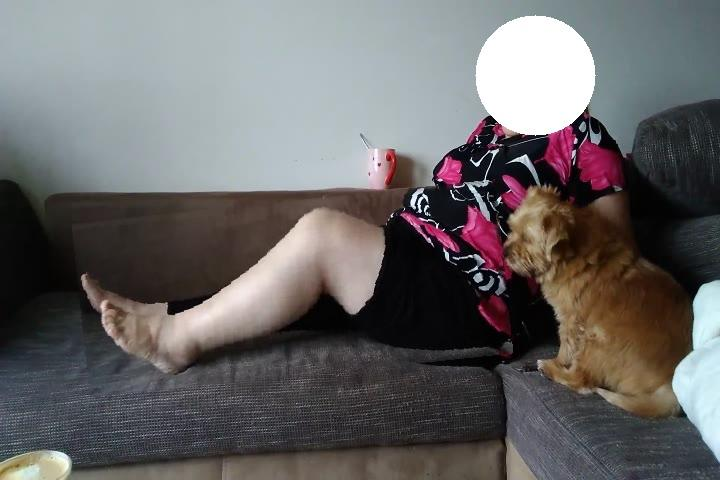lower_body: (77, 191, 511, 388)
